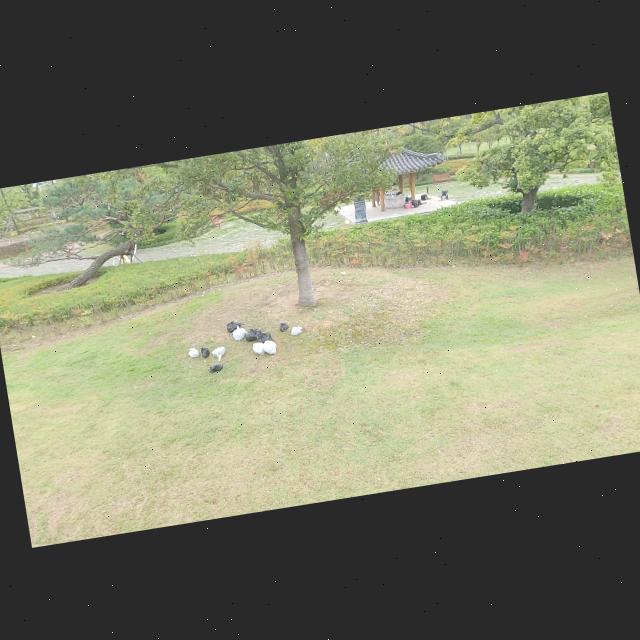trash: (262, 338, 279, 357), (256, 329, 274, 346), (244, 326, 263, 342), (252, 339, 269, 356), (232, 324, 248, 342), (210, 346, 228, 362), (225, 318, 243, 333), (288, 323, 304, 337), (208, 362, 225, 373), (187, 346, 200, 359), (200, 346, 211, 359), (279, 321, 290, 332)
